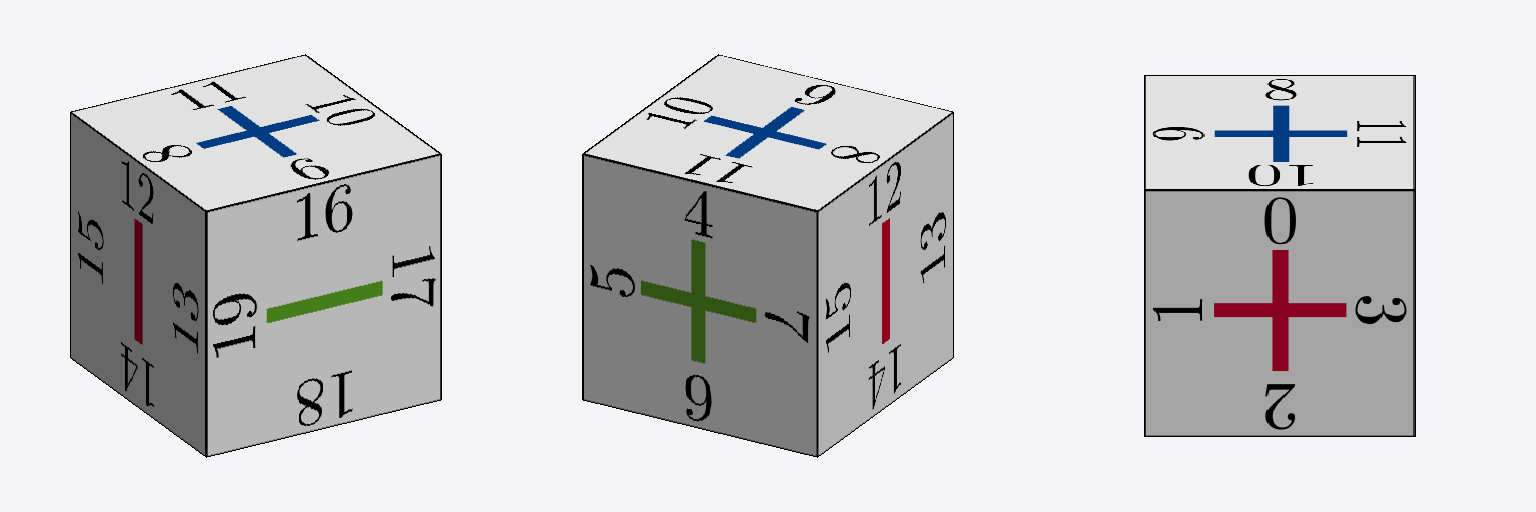
The picture shows the model from 3 angles: view 1: azimuth 30°, elevation 25°; view 2: azimuth 150°, elevation 25°; view 3: azimuth 270°, elevation 25°; orthographic projection.
Parts seen in each view (by area): view 1: Cube; view 2: Cube; view 3: Cube.
Part boxes in pixels (x1,y1,x2,y2): Cube: (70, 54, 441, 457); Cube: (582, 54, 953, 457); Cube: (1144, 75, 1415, 436).
Size of the model in its own units: 1 by 1 by 1.
1 materials, 1 textured.